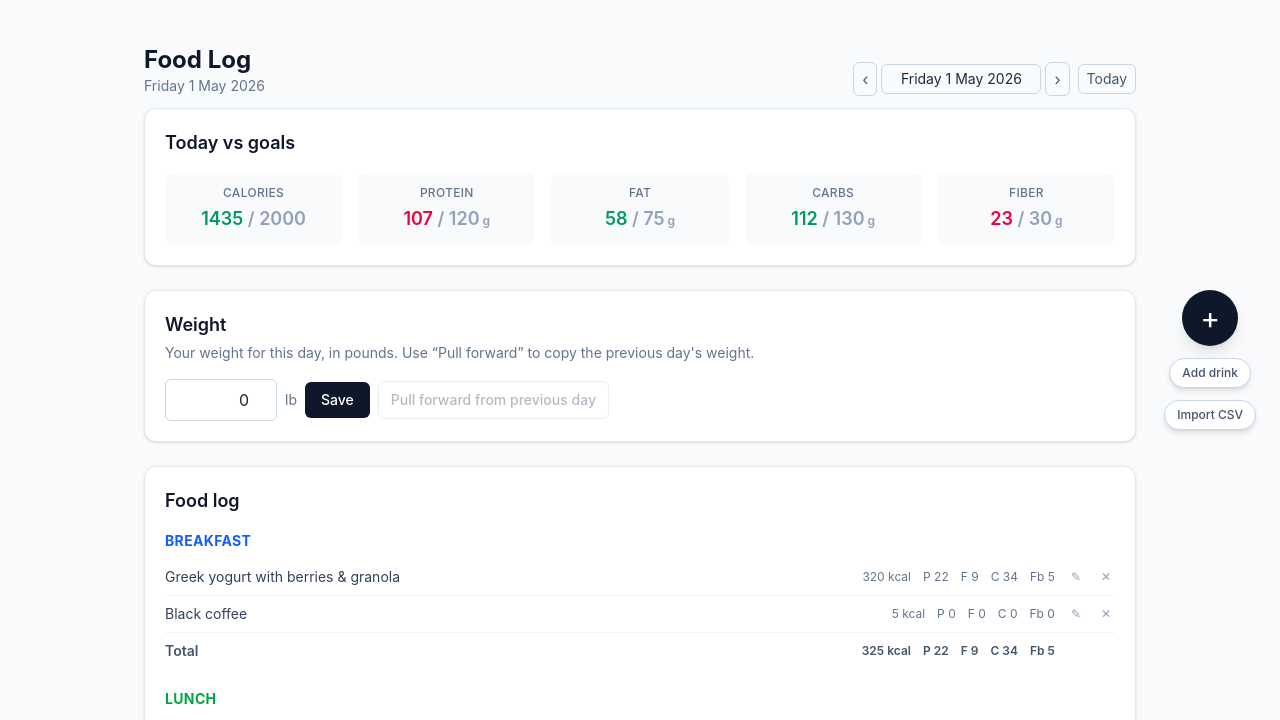
Scenario: Dashboard › editing entries › edits an entry in place via the modal and updates totals
The width and height of the screenshot is (1280, 720).
Click the button named "Edit Black coffee" at x=1076, y=614, box left=1067, top=606, right=1085, bottom=622
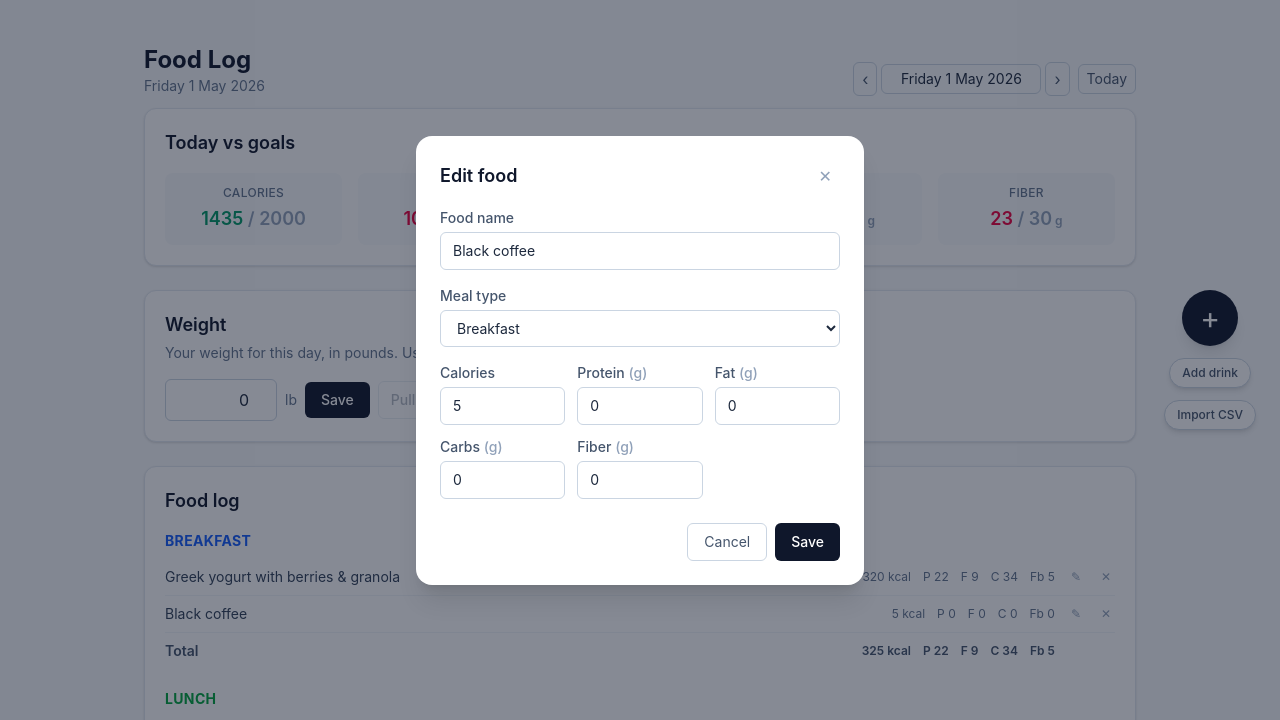
Expected: the field labelled "Food name" holds "Black coffee", left=440, top=232, right=840, bottom=270
Replace the text in the number field labelled "Calories" with "15" at x=503, y=406, box left=440, top=386, right=565, bottom=424
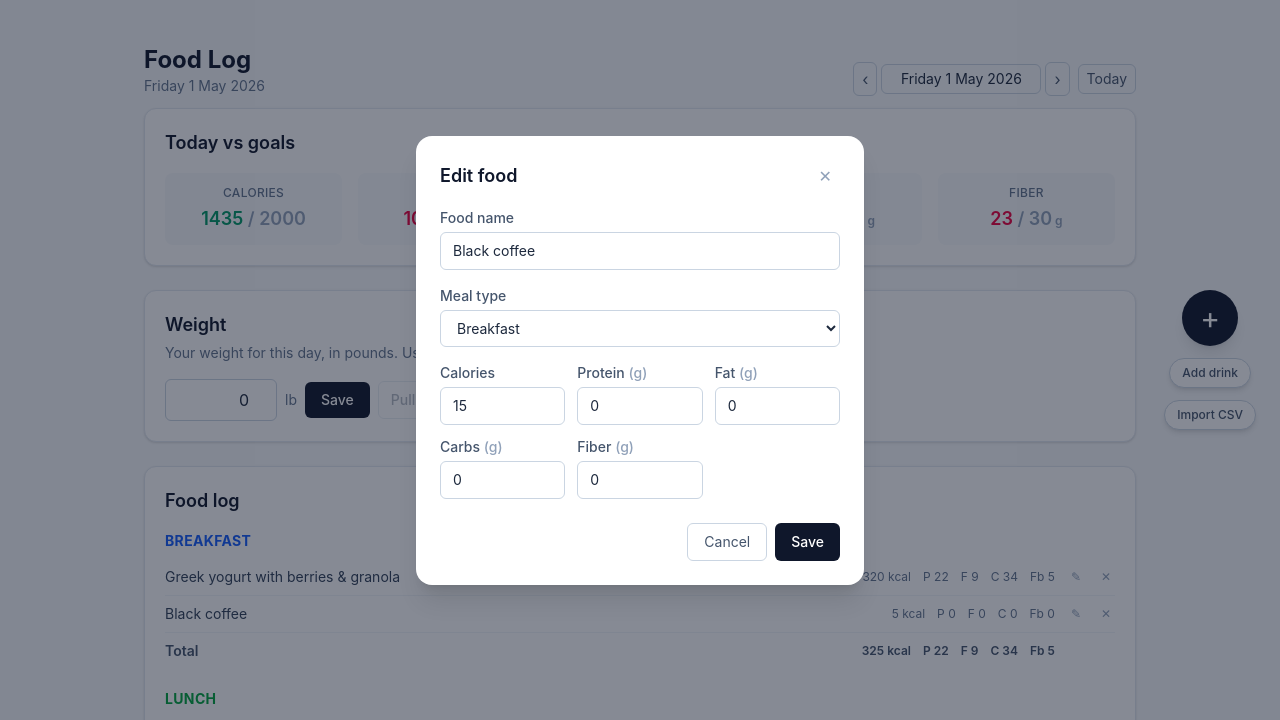
Click the button "Save" at x=808, y=542, box left=775, top=522, right=840, bottom=560
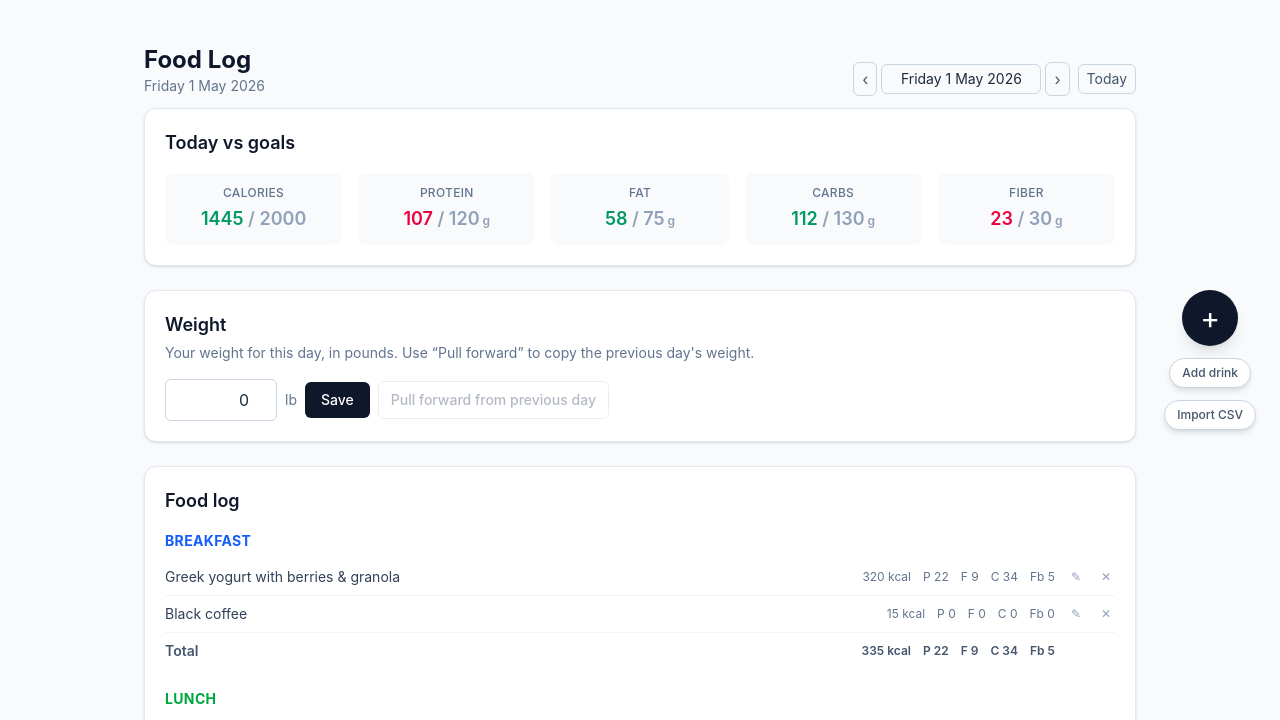
Expected: the heading "Edit food" is gone
Expected: the text named "Calories consumed" reads "1445", left=201, top=208, right=244, bottom=229
